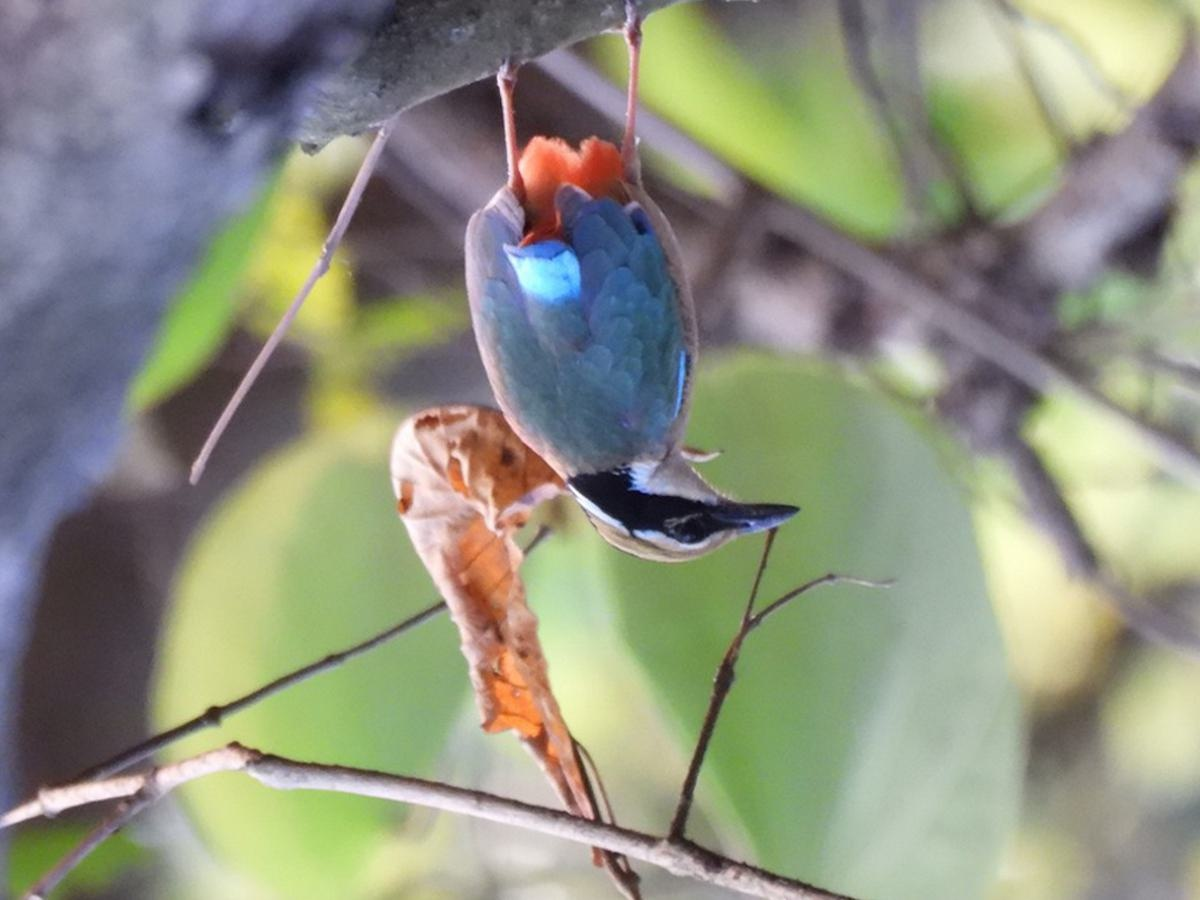pitta: (428, 35, 821, 588)
